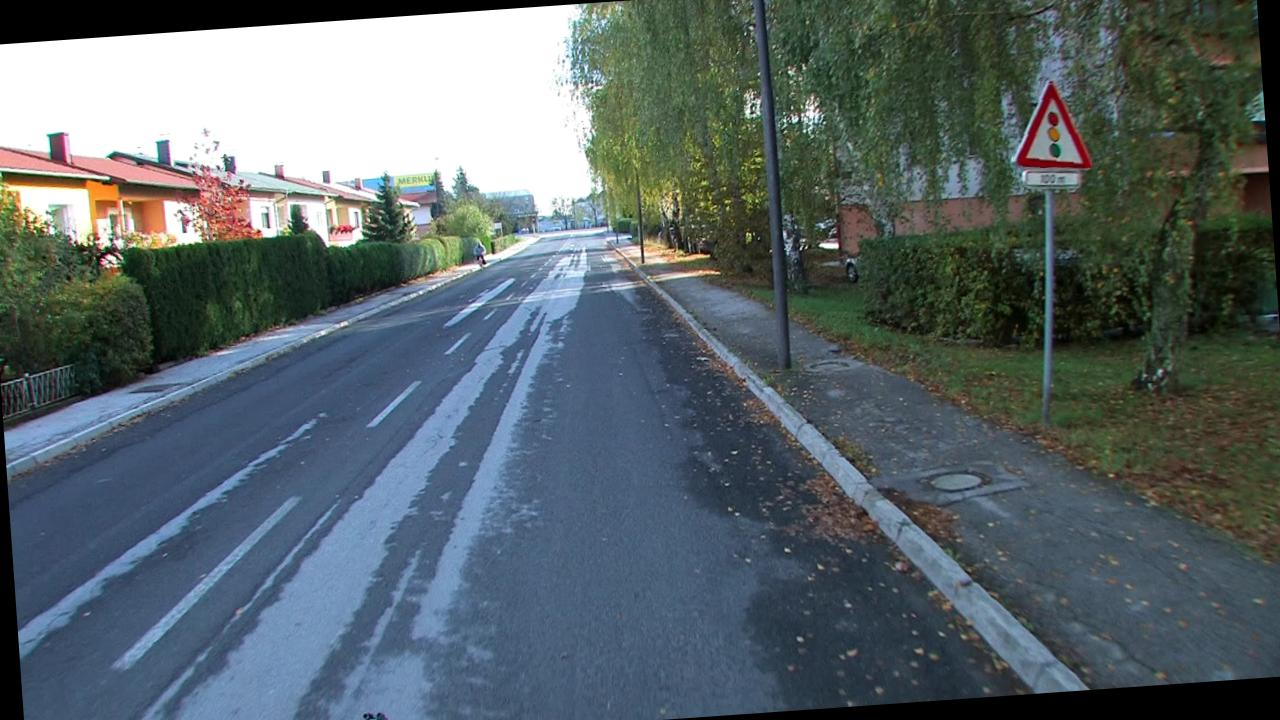Rectangle: (1023, 164, 1086, 191)
Triangle: (1005, 78, 1092, 172)
